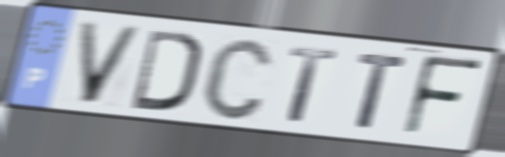C: (199, 34, 275, 123)
D: (129, 26, 204, 115)
F: (400, 52, 487, 141)
T: (355, 50, 411, 132), (285, 44, 341, 124)
V: (76, 19, 146, 107)
